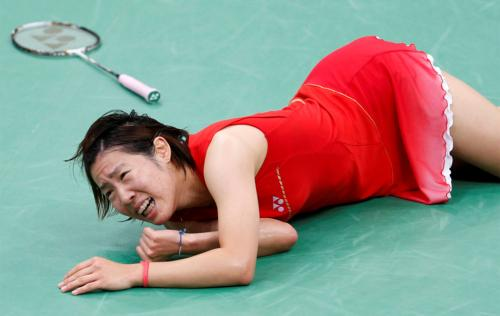down: (51, 29, 500, 297)
